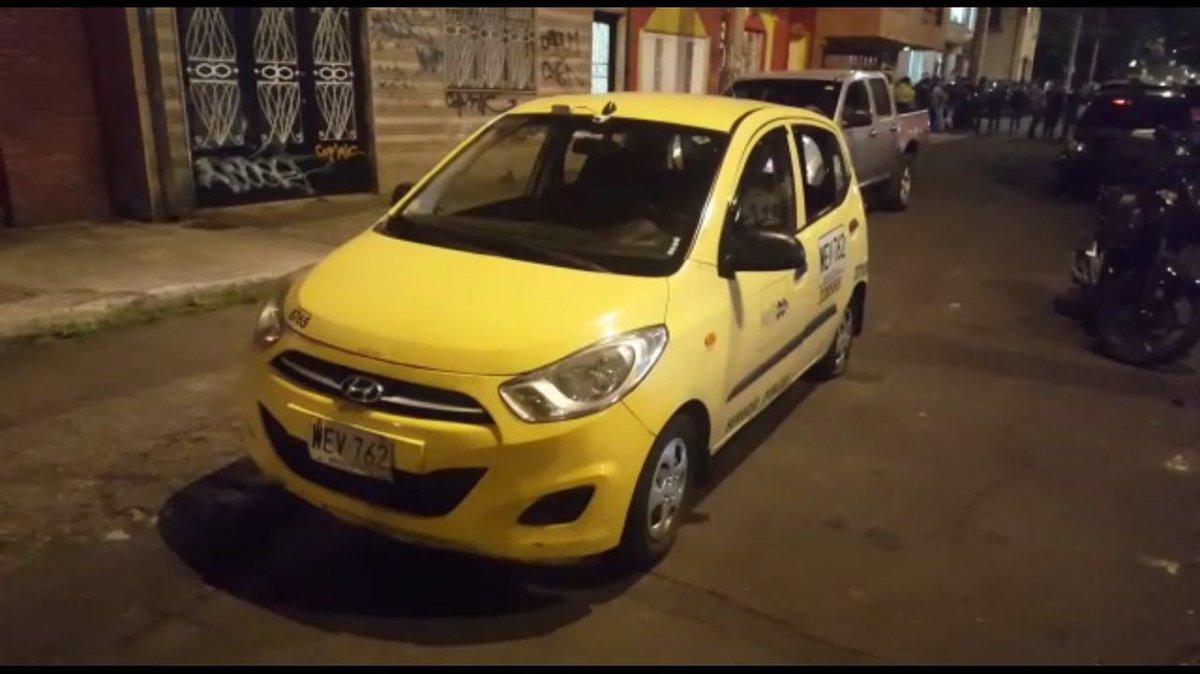taxi: (239, 31, 857, 588)
